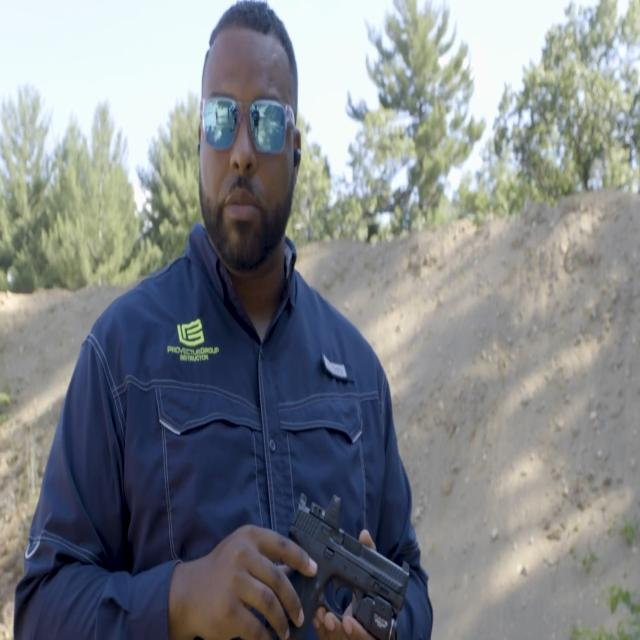Gun_Holder: (260, 473, 412, 637)
Person: (0, 0, 434, 640)
